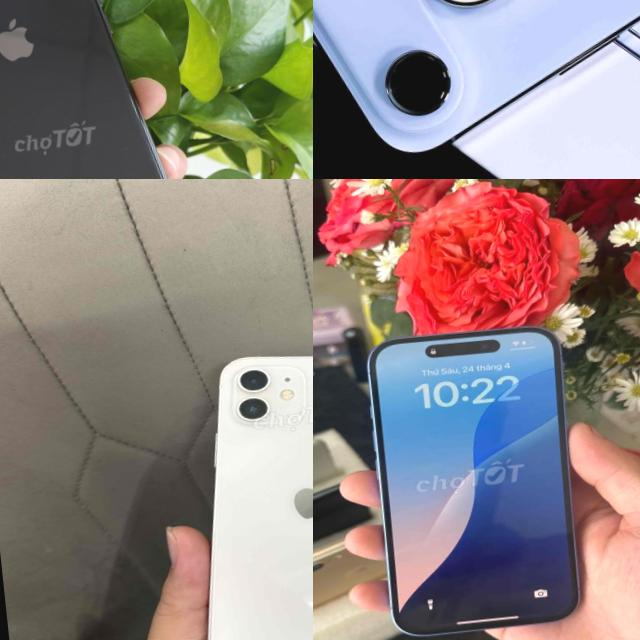gen_12_13: (163, 333, 313, 640)
gen_16: (368, 326, 578, 635)
gen_7_8: (0, 0, 214, 179)
